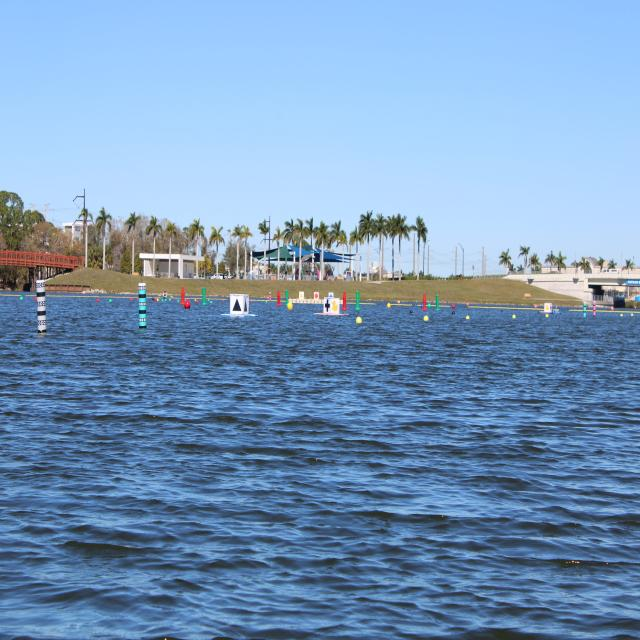green-column-buoy: (355, 290, 361, 310), (203, 286, 208, 306), (435, 294, 440, 310)
red-column-buoy: (183, 286, 189, 306), (344, 290, 349, 309), (423, 293, 428, 310), (278, 288, 282, 306)
yellow-buoy: (355, 315, 363, 328), (286, 301, 294, 313), (387, 303, 392, 310), (424, 315, 428, 322), (466, 314, 470, 320)
yellow-duck: (330, 300, 340, 316)
